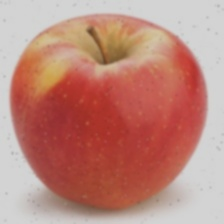apple: (48, 1, 209, 190)
